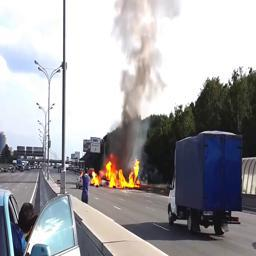fire: (91, 155, 141, 188)
